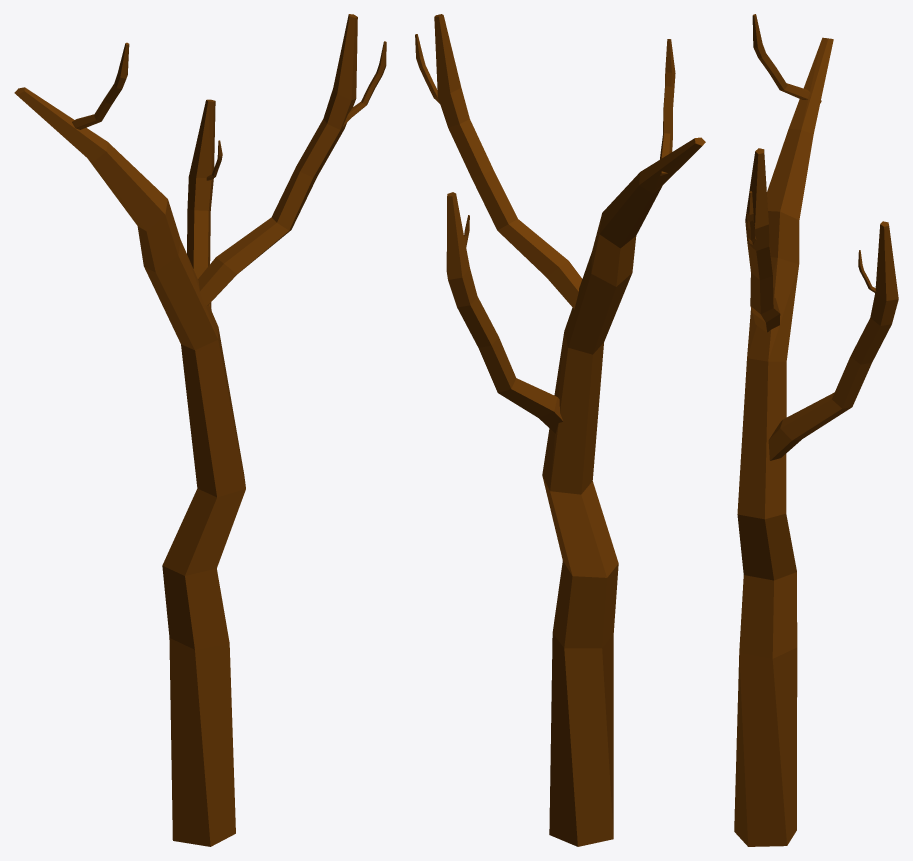
The model's file is DesertItem5.fbx.
The picture shows the model from 3 angles, left to right: view 1: azimuth 30°, elevation 25°; view 2: azimuth 150°, elevation 25°; view 3: azimuth 270°, elevation 25°; orthographic projection. The views are drawn at different scales.
Visible parts, largest first — view 1: Cylinder; view 2: Cylinder; view 3: Cylinder.
Part boxes in pixels (x1=…): Cylinder: x1=14, y1=14, x2=386, y2=846; Cylinder: x1=415, y1=14, x2=705, y2=846; Cylinder: x1=734, y1=14, x2=898, y2=846.
Bounding box in the file's own units: 73.1 × 172 × 32.77.
